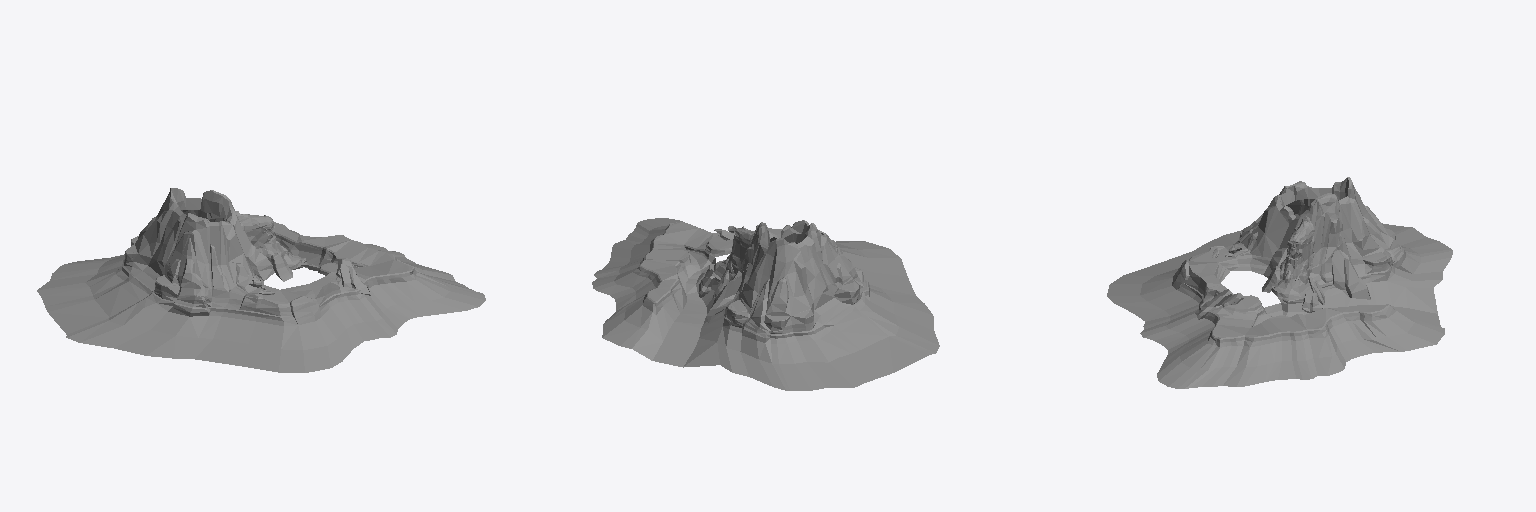
File: Treasure_MapV3.obj
3 views of the same model, side by side, from view 1: azimuth 30°, elevation 25°; view 2: azimuth 150°, elevation 25°; view 3: azimuth 270°, elevation 25° (orthographic).
Parts seen in each view (by area): view 1: Object003; view 2: Object003; view 3: Object003.
Boxes of the visible parts, box(x1,y1,x2,y2) form: Object003: box(37, 188, 485, 372); Object003: box(592, 218, 939, 390); Object003: box(1107, 177, 1452, 388).
Size of the model in its own units: 45628 by 13421 by 38227.